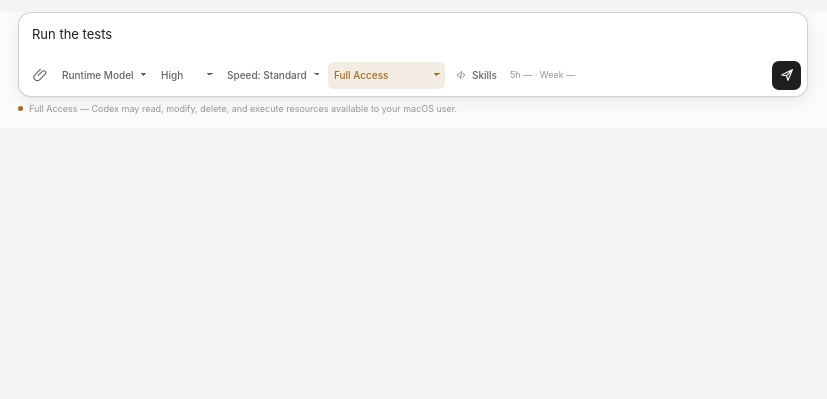
Test case: Codex message composer › opens plugins and project skills from an explicit inline Skills control
This screenshot has width=827, height=399.
Click the button "Skills" at (476, 75), box [448,62,504,88]
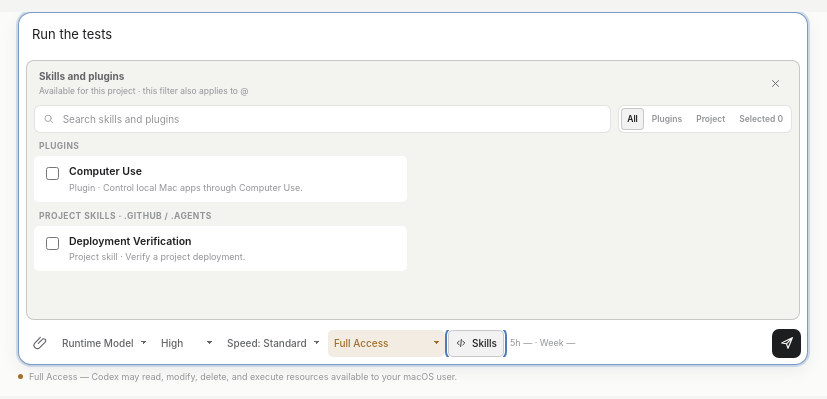
Now the button "Skills" is expanded, box [448,330,504,356]
Now the element "Skills and plugins" is shown
Now the text "Available for this project · this filter also applies to @" is shown, box [39,85,249,97]
Click the checkbox labelled "Computer Use" at (52, 174), box [46,167,59,180]
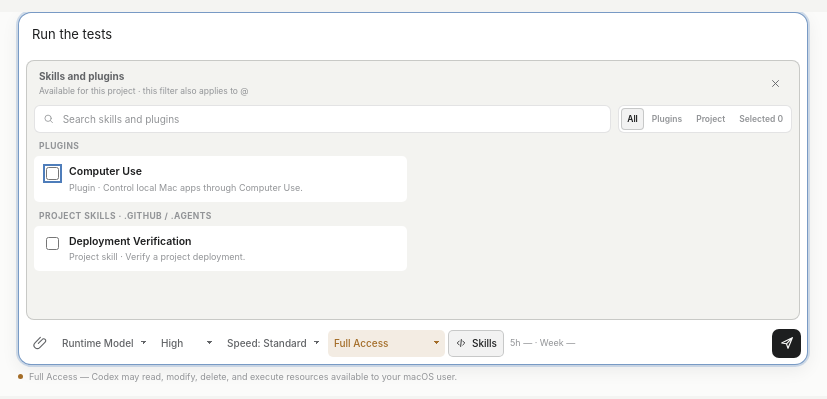
Click the checkbox labelled "Deployment Verification" at (52, 243), box [46,237,59,250]
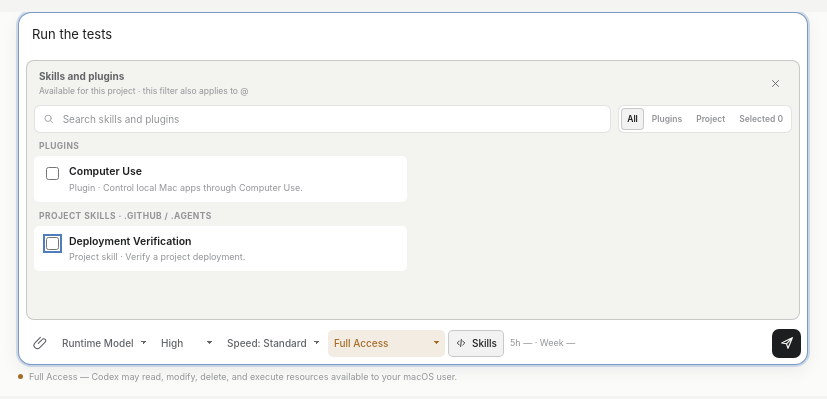
Click the button named "Close skills" at (775, 83), box [760,68,790,98]
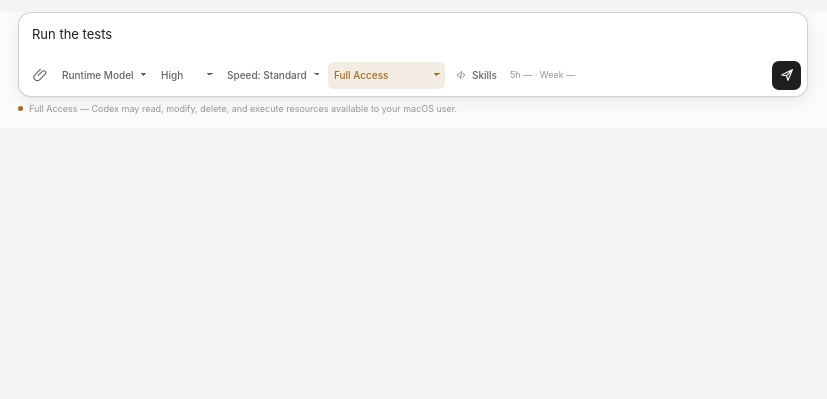
Now the text "Skills and plugins" is gone
